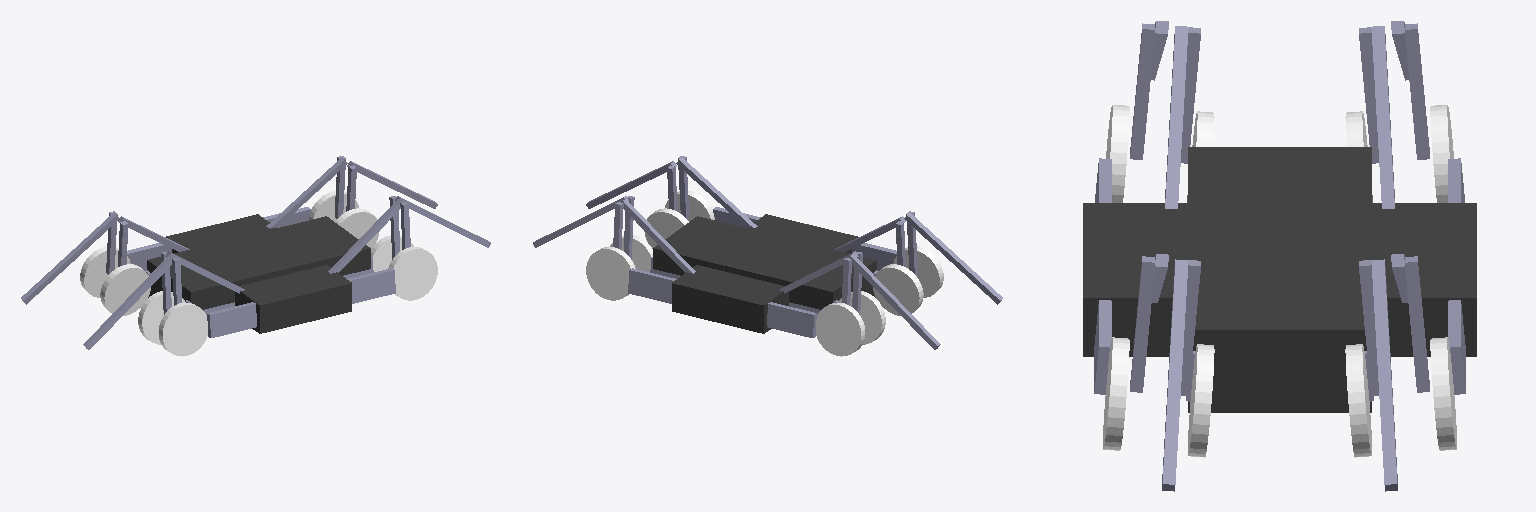
--- Render facts (derived) ---
3 views of the same robot in one strip: view 1: azimuth 30°, elevation 25°; view 2: azimuth 150°, elevation 25°; view 3: azimuth 270°, elevation 25° (orthographic).
Model quadruped with 27 links and 26 joints (8 continuous, 18 fixed), rooted at base_chassis_link, posed all joints at 0.
Links seen in each view (by area): view 1: base_chassis_link, chassis_right, motor_back_rightR_link, motor_front_rightR_link, motor_back_leftL_link, lower_leg_back_leftR_link, lower_leg_back_rightR_link, motor_back_leftR_link, chassis_left, motor_back_rightL_link, lower_leg_front_leftR_link, motor_front_leftL_link (+5 smaller); view 2: base_chassis_link, chassis_left, motor_back_leftR_link, motor_front_leftR_link, motor_back_rightL_link, lower_leg_back_rightR_link, lower_leg_back_leftR_link, motor_back_rightR_link, chassis_right, motor_back_leftL_link, lower_leg_front_rightR_link, motor_front_rightL_link (+5 smaller); view 3: base_chassis_link, lower_leg_front_rightL_link, lower_leg_front_leftL_link, lower_leg_back_rightL_link, lower_leg_back_leftL_link, motor_front_rightR_link, motor_front_leftR_link, motor_front_rightL_link, motor_front_leftL_link, chassis_right, chassis_left, upper_leg_back_rightR_link (+13 smaller).
Link boxes in pixels (bbox=[...]): base_chassis_link: bbox=[147, 214, 370, 333]; chassis_right: bbox=[185, 257, 395, 337]; motor_back_rightR_link: bbox=[159, 302, 207, 356]; motor_front_rightR_link: bbox=[388, 247, 437, 300]; motor_back_leftL_link: bbox=[100, 264, 150, 315]; lower_leg_back_leftR_link: bbox=[21, 212, 119, 304]; lower_leg_back_rightR_link: bbox=[83, 254, 174, 349]; motor_back_leftR_link: bbox=[80, 246, 130, 297]; chassis_left: bbox=[127, 207, 310, 294]; motor_back_rightL_link: bbox=[138, 291, 184, 344]; lower_leg_front_leftR_link: bbox=[266, 157, 347, 228]; motor_front_leftL_link: bbox=[335, 208, 379, 248]; base_chassis_link: bbox=[653, 214, 876, 333]; chassis_left: bbox=[628, 257, 838, 337]; motor_back_leftR_link: bbox=[816, 302, 864, 356]; motor_front_leftR_link: bbox=[586, 247, 635, 300]; motor_back_rightL_link: bbox=[873, 264, 923, 315]; lower_leg_back_rightR_link: bbox=[904, 212, 1002, 304]; lower_leg_back_leftR_link: bbox=[849, 254, 940, 349]; motor_back_rightR_link: bbox=[893, 246, 943, 297]; chassis_right: bbox=[713, 207, 896, 294]; motor_back_leftL_link: bbox=[839, 291, 885, 344]; lower_leg_front_rightR_link: bbox=[676, 157, 757, 228]; motor_front_rightL_link: bbox=[644, 208, 688, 248]; base_chassis_link: bbox=[1083, 147, 1476, 412]; lower_leg_front_rightL_link: bbox=[1162, 259, 1188, 491]; lower_leg_front_leftL_link: bbox=[1371, 259, 1397, 491]; lower_leg_back_rightL_link: bbox=[1165, 26, 1188, 208]; lower_leg_back_leftL_link: bbox=[1371, 26, 1394, 208]; motor_front_rightR_link: bbox=[1103, 337, 1129, 450]; motor_front_leftR_link: bbox=[1430, 337, 1456, 450]; motor_front_rightL_link: bbox=[1188, 344, 1214, 457]; motor_front_leftL_link: bbox=[1345, 344, 1371, 457]; chassis_right: bbox=[1094, 158, 1194, 401]; chassis_left: bbox=[1365, 158, 1465, 401]; upper_leg_back_rightR_link: bbox=[1130, 23, 1154, 159].
Size in the robot's own frame: 0.7535 by 0.3 by 0.1669 metres.
8 mesh visuals loaded from 1 distinct referenced files (1 OBJ).

robot.urdf — quadruped:
<?xml version="0.0" ?>
<!-- ======================================================================= -->
<!--LICENSE:                                                                 -->
<!--Copyright (c) 2017, Erwin Coumans                                        -->
<!--Google Inc.                                                              -->
<!--All rights reserved.                                                     -->
<!--                                                                         -->
<!--Redistribution and use in source and binary forms, with or without       -->
<!--modification, are permitted provided that the following conditions are   -->
<!--met:                                                                     -->
<!--                                                                         -->
<!--1. Redistributions or derived work must retain this copyright notice,    -->
<!--   this list of conditions and the following disclaimer.                 -->
<!--                                                                         -->
<!--2. Redistributions in binary form must reproduce the above copyright     -->
<!--   notice, this list of conditions and the following disclaimer in the   -->
<!--   documentation and/or other materials provided with the distribution.  -->
<!--                                                                         -->
<!--THIS SOFTWARE IS PROVIDED BY THE COPYRIGHT HOLDERS AND CONTRIBUTORS "AS  -->
<!--IS" AND ANY EXPRESS OR IMPLIED WARRANTIES, INCLUDING, BUT NOT LIMITED TO,-->
<!--THE IMPLIED WARRANTIES OF MERCHANTABILITY AND FITNESS FOR A PARTICULAR   -->
<!--PURPOSE ARE DISCLAIMED. IN NO EVENT SHALL THE COPYRIGHT HOLDER OR        -->
<!--CONTRIBUTORS BE LIABLE FOR ANY DIRECT, INDIRECT, INCIDENTAL, SPECIAL,    -->
<!--EXEMPLARY, OR CONSEQUENTIAL DAMAGES (INCLUDING, BUT NOT LIMITED TO,      -->
<!--PROCUREMENT OF SUBSTITUTE GOODS OR SERVICES; LOSS OF USE, DATA, OR       -->
<!--PROFITS; OR BUSINESS INTERRUPTION) HOWEVER CAUSED AND ON ANY THEORY OF   -->
<!--LIABILITY, WHETHER IN CONTRACT, STRICT LIABILITY, OR TORT (INCLUDING     -->
<!--NEGLIGENCE OR OTHERWISE) ARISING IN ANY WAY OUT OF THE USE OF THIS       -->
<!--SOFTWARE, EVEN IF ADVISED OF THE POSSIBILITY OF SUCH DAMAGE.             -->

<robot name="quadruped">
  <link name="base_chassis_link">
    <visual>
      <geometry>
        <box size=".33 0.14 .07"/>
      </geometry>
      <material name="black">
        <color rgba="0.3 0.3 0.3 1"/>
      </material>
    </visual>
    <visual>
			<origin rpy="0 0 0" xyz="0 0.10 0"/>
      <geometry>
        <box size=".17 0.10 .05"/>
      </geometry>
      <material name="black">
        <color rgba="0.3 0.3 0.3 1"/>
      </material>
    </visual>
		<visual>
			<origin rpy="0 0 0" xyz="0 -0.10 0"/>
      <geometry>
        <box size=".17 0.10 .05"/>
      </geometry>
      <material name="black">
        <color rgba="0.3 0.3 0.3 1"/>
      </material>
    </visual>

    <collision>
      <geometry>
       <box size=".34 0.14 .07"/>
      </geometry>
    </collision>
    <collision>
			<origin rpy="0 0 0" xyz="0 0.10 0"/>
      <geometry>
       <box size=".17 0.10 .05"/>
      </geometry>
    </collision>
    <collision>
			<origin rpy="0 0 0" xyz="0 -0.10 0"/>
      <geometry>
       <box size=".17 0.10 .05"/>
      </geometry>
    </collision>

    <inertial>
      <mass value="3"/>
      <inertia ixx="1.0" ixy="0.0" ixz="0.0" iyy="1.0" iyz="0.0" izz="1.0"/>
    </inertial>
  </link>

  <link name="chassis_right">
    <visual>
			<origin rpy="0 0 0" xyz="0 0.035 0"/>
      <geometry>
       <box size=".34 0.01 .04"/>
      </geometry>
			<material name="grey">
        <color rgba="0.65 0.65 0.75 1"/>
      </material>    </visual>
    <visual>
			<origin rpy="0 0 0" xyz="0 -0.035 0"/>
      <geometry>
       <box size=".34 0.01 .04"/>
      </geometry>
			<material name="grey">
        <color rgba="0.65 0.65 0.75 1"/>
      </material>    </visual>
    <collision>
			<origin rpy="0 0 0" xyz="0 0.035 0"/>
      <geometry>
       <box size=".34 0.01 .04"/>
      </geometry>
    </collision>
    <collision>
			<origin rpy="0 0 0" xyz="0 -0.035 0"/>
      <geometry>
       <box size=".34 0.01 .04"/>
      </geometry>
    </collision>
    <inertial>
      <mass value=".1"/>
      <inertia ixx="1.0" ixy="0.0" ixz="0.0" iyy="1.0" iyz="0.0" izz="1.0"/>
    </inertial>
  </link>

  <joint name="chassis_right_center" type="fixed">
    <axis xyz="0 0 1"/>
    <parent link="base_chassis_link"/>
    <child link="chassis_right"/>
    <origin rpy="-0.0872665 0 0" xyz="0.0 -0.10 0.0"/>
    <limit effort="100" velocity="100"/>
    <joint_properties damping="0.0" friction="0.0"/>
  </joint>

  <link name="chassis_left">
    <visual>
			<origin rpy="0 0 0" xyz="0 0.035 0"/>
      <geometry>
       <box size=".34 0.01 .04"/>
      </geometry>
			<material name="grey">
        <color rgba="0.65 0.65 0.75 1"/>
      </material>    </visual>
    <visual>
			<origin rpy="0 0 0" xyz="0 -0.035 0"/>
      <geometry>
       <box size=".34 0.01 .04"/>
      </geometry>
			<material name="grey">
        <color rgba="0.65 0.65 0.75 1"/>
      </material>    </visual>
    <collision>
			<origin rpy="0 0 0" xyz="0 0.035 0"/>
      <geometry>
       <box size=".34 0.01 .04"/>
      </geometry>
    </collision>
    <collision>
			<origin rpy="0 0 0" xyz="0 -0.035 0"/>
      <geometry>
       <box size=".34 0.01 .04"/>
      </geometry>
    </collision>
    <inertial>
      <mass value=".1"/>
      <inertia ixx="1.0" ixy="0.0" ixz="0.0" iyy="1.0" iyz="0.0" izz="1.0"/>
    </inertial>
  </link>

  <joint name="chassis_left_center" type="fixed">
    <axis xyz="0 0 1"/>
    <parent link="base_chassis_link"/>
    <child link="chassis_left"/>
    <origin rpy="0.0872665 0 0" xyz="0.0 0.10 0.0"/>
    <limit effort="100" velocity="100"/>
    <joint_properties damping="0.0" friction="0.0"/>
  </joint>

  
  
  <link name="motor_front_rightR_link">
    <visual>
      <geometry>
        <mesh filename="tmotor3.obj" scale="1 1 1"/>
      </geometry>
      <material name="white">
        <color rgba="1 1 1 1"/>
      </material>
    </visual>
    <collision>
      <geometry>
        <cylinder length="0.026" radius="0.0434"/>
      </geometry>
    </collision>
    <inertial>
      <mass value="0.25"/>
      <inertia ixx="1.0" ixy="0.0" ixz="0.0" iyy="1.0" iyz="0.0" izz="1.0"/>
    </inertial>
  </link>
  <joint name="motor_front_rightR_joint" type="continuous">
    <axis xyz="0 0 1"/>
    <parent link="chassis_right"/>
    <child link="motor_front_rightR_link"/>
    <origin rpy="1.57075 0 0" xyz="0.21 -0.025 0"/>
    <limit effort="100" velocity="100"/>
    <joint_properties damping="0.0" friction="0.0"/>
  </joint>


	<link name="motor_front_rightL_link">
    <visual>
      <geometry>
        <mesh filename="tmotor3.obj" scale="1 1 1"/>
      </geometry>
      <material name="white">
        <color rgba="1 1 1 1"/>
      </material>
    </visual>
    <collision>
      <geometry>
        <cylinder length="0.026" radius="0.0434"/>
      </geometry>
    </collision>
    <inertial>
      <mass value="0.25"/>
      <inertia ixx="1.0" ixy="0.0" ixz="0.0" iyy="1.0" iyz="0.0" izz="1.0"/>
    </inertial>
  </link>
  <joint name="motor_front_rightL_joint" type="continuous">
    <axis xyz="0 0 1"/>
    <parent link="chassis_right"/>
    <child link="motor_front_rightL_link"/>
    <origin rpy="1.57075 0 3.141592" xyz="0.21 0.04 0"/>
    <limit effort="100" velocity="100"/>
    <joint_properties damping="0.0" friction="0.0"/>
  </joint>
  
  
  <link name="motor_front_leftR_link">
    <visual>
      <geometry>
        <mesh filename="tmotor3.obj" scale="1 1 1"/>
      </geometry>
      <material name="white">
        <color rgba="1 1 1 1"/>
      </material>
    </visual>
    <collision>
      <geometry>
        <cylinder length="0.026" radius="0.0434"/>
      </geometry>
    </collision>
    <inertial>
      <mass value="0.25"/>
      <inertia ixx="1.0" ixy="0.0" ixz="0.0" iyy="1.0" iyz="0.0" izz="1.0"/>
    </inertial>
  </link>
  <joint name="motor_front_leftR_joint" type="continuous">
    <axis xyz="0 0 1"/>
    <parent link="chassis_left"/>
    <child link="motor_front_leftR_link"/>
    <origin rpy="1.57075 0 3.141592" xyz="0.21 0.025 0"/>
    <limit effort="100" velocity="100"/>
    <joint_properties damping="0.0" friction="0.0"/>
  </joint>


	<link name="motor_front_leftL_link">
    <visual>
      <geometry>
        <mesh filename="tmotor3.obj" scale="1 1 1"/>
      </geometry>
      <material name="white">
        <color rgba="1 1 1 1"/>
      </material>
    </visual>
    <inertial>
      <mass value="0.25"/>
      <inertia ixx="1.0" ixy="0.0" ixz="0.0" iyy="1.0" iyz="0.0" izz="1.0"/>
    </inertial>
  </link>
  <joint name="motor_front_leftL_joint" type="continuous">
    <axis xyz="0 0 1"/>
    <parent link="chassis_left"/>
    <child link="motor_front_leftL_link"/>
    <origin rpy="1.57075 0 0" xyz="0.21 -0.04 0"/>
    <limit effort="100" velocity="100"/>
    <joint_properties damping="0.0" friction="0.0"/>
  </joint>
  
  
  <link name="motor_back_rightR_link">
    <visual>
      <geometry>
        <mesh filename="tmotor3.obj" scale="1 1 1"/>
      </geometry>
      <material name="white">
        <color rgba="1 1 1 1"/>
      </material>
    </visual>
    <collision>
      <geometry>
        <cylinder length="0.026" radius="0.0434"/>
      </geometry>
    </collision>
    <inertial>
      <mass value="0.25"/>
      <inertia ixx="1.0" ixy="0.0" ixz="0.0" iyy="1.0" iyz="0.0" izz="1.0"/>
    </inertial>
  </link>
  <joint name="motor_back_rightR_joint" type="continuous">
    <axis xyz="0 0 1"/>
    <parent link="chassis_right"/>
    <child link="motor_back_rightR_link"/>
    <origin rpy="1.57075 0 0" xyz="-0.21 -0.025 0"/>
    <limit effort="100" velocity="100"/>
    <joint_properties damping="0.0" friction="0.0"/>
  </joint>


	<link name="motor_back_rightL_link">
    <visual>
      <geometry>
        <mesh filename="tmotor3.obj" scale="1 1 1"/>
      </geometry>
      <material name="white">
        <color rgba="1 1 1 1"/>
      </material>
    </visual>
    <collision>
      <geometry>
        <cylinder length="0.026" radius="0.0434"/>
      </geometry>
    </collision>
    <inertial>
      <mass value="0.25"/>
      <inertia ixx="1.0" ixy="0.0" ixz="0.0" iyy="1.0" iyz="0.0" izz="1.0"/>
    </inertial>
  </link>
  <joint name="motor_back_rightL_joint" type="continuous">
    <axis xyz="0 0 1"/>
    <parent link="chassis_right"/>
    <child link="motor_back_rightL_link"/>
    <origin rpy="1.57075 0 3.141592" xyz="-0.21 0.04 0"/>
    <limit effort="100" velocity="100"/>
    <joint_properties damping="0.0" friction="0.0"/>
  </joint>
  
  
  <link name="motor_back_leftR_link">
    <visual>
      <geometry>
        <mesh filename="tmotor3.obj" scale="1 1 1"/>
      </geometry>
      <material name="white">
        <color rgba="1 1 1 1"/>
      </material>
    </visual>
    <collision>
      <geometry>
        <cylinder length="0.026" radius="0.0434"/>
      </geometry>
    </collision>
    <inertial>
      <mass value="0.25"/>
      <inertia ixx="1.0" ixy="0.0" ixz="0.0" iyy="1.0" iyz="0.0" izz="1.0"/>
    </inertial>
  </link>
  <joint name="motor_back_leftR_joint" type="continuous">
    <axis xyz="0 0 1"/>
    <parent link="chassis_left"/>
    <child link="motor_back_leftR_link"/>
    <origin rpy="1.57075 0 3.141592" xyz="-0.21 0.025 0"/>
    <limit effort="100" velocity="100"/>
    <joint_properties damping="0.0" friction="0.0"/>
  </joint>


	<link name="motor_back_leftL_link">
    <visual>
      <geometry>
        <mesh filename="tmotor3.obj" scale="1 1 1"/>
      </geometry>
      <material name="white">
        <color rgba="1 1 1 1"/>
      </material>
    </visual>
    <collision>
      <geometry>
        <cylinder length="0.026" radius="0.0434"/>
      </geometry>
    </collision>
    <inertial>
      <mass value="0.25"/>
      <inertia ixx="1.0" ixy="0.0" ixz="0.0" iyy="1.0" iyz="0.0" izz="1.0"/>
    </inertial>
  </link>
  <joint name="motor_back_leftL_joint" type="continuous">
    <axis xyz="0 0 1"/>
    <parent link="chassis_left"/>
    <child link="motor_back_leftL_link"/>
    <origin rpy="1.57075 0 0" xyz="-0.21 -0.04 0"/>
    <limit effort="100" velocity="100"/>
    <joint_properties damping="0.0" friction="0.0"/>
  </joint>

	<link name="upper_leg_front_rightR_link">
    <visual>
      <geometry>
        <box size=".01 0.01 .11"/>
      </geometry>
      <material name="grey">
        <color rgba="0.65 0.65 0.75 1"/>
      </material>
    </visual>
    <collision>
      <geometry>
        <box size=".01 0.01 .11"/>
      </geometry>
    </collision>
    <inertial>
      <mass value="0.05"/>
      <inertia ixx="1.0" ixy="0.0" ixz="0.0" iyy="1.0" iyz="0.0" izz="1.0"/>
    </inertial>
  </link>
  <joint name="hip_front_rightR_link" type="fixed">
    <axis xyz="0 0 1"/>
    <parent link="motor_front_rightR_link"/>
    <child link="upper_leg_front_rightR_link"/>
    <origin rpy="-1.57075 0 0" xyz="0.0 0.06 -0.015"/>
    <limit effort="100" velocity="100"/>
    <joint_properties damping="0.0" friction="0.0"/>
  </joint>

	<link name="lower_leg_front_rightR_link">
	<contact>
	  <stiffness value="10000"/>
    <damping value="10"/>
		<lateral_friction value="1"/>
  </contact>

    <visual>
    	<origin rpy="0.0 0 0" xyz="0 0 .1"/>
      <geometry>
        <box size=".01 0.01 .2"/>
      </geometry>
      <material name="grey">
        <color rgba="0.65 0.65 0.75 1"/>
      </material>
    </visual>
    <collision>
    	<origin rpy="0.0 0 0" xyz="0 0 .1"/>
      <geometry>
        <box size=".01 0.01 .2"/>
      </geometry>
    </collision>
    <inertial>
      <mass value="0.05"/>
      <inertia ixx="1.0" ixy="0.0" ixz="0.0" iyy="1.0" iyz="0.0" izz="1.0"/>
    </inertial>
  </link>
  <joint name="knee_front_rightR_link" type="fixed">
    <axis xyz="0 1 0"/>
    <parent link="upper_leg_front_rightR_link"/>
    <child link="lower_leg_front_rightR_link"/>
    <origin rpy="0 -2.1834 0" xyz="0.0 0.01 .055"/>
    <limit effort="100" velocity="100"/>
    <joint_properties damping="0.0" friction="0.0"/>
  </joint>

    
  <link name="upper_leg_front_rightL_link">
    <visual>
      <geometry>
        <box size=".01 0.01 .11"/>
      </geometry>
      <material name="grey">
        <color rgba="0.65 0.65 0.75 1"/>
      </material>
    </visual>
    <collision>
      <geometry>
        <box size=".01 0.01 .11"/>
      </geometry>
    </collision>
    <inertial>
      <mass value="0.05"/>
      <inertia ixx="1.0" ixy="0.0" ixz="0.0" iyy="1.0" iyz="0.0" izz="1.0"/>
    </inertial>
  </link>
  <joint name="motor_front_rightL_link" type="fixed">
    <axis xyz="0 0 1"/>
    <parent link="motor_front_rightL_link"/>
    <child link="upper_leg_front_rightL_link"/>
    <origin rpy="-1.57075 0 0" xyz="0.0 0.06 -0.015"/>
    <limit effort="100" velocity="100"/>
    <joint_properties damping="0.0" friction="0.0"/>
  </joint>

  

  
  <link name="lower_leg_front_rightL_link">
	<contact>
		<stiffness value="10000"/>
		<damping value="10"/>
		<lateral_friction value="1"/>
  </contact>

    <visual>
    	<origin rpy="0.0 0 0" xyz="0 0 .1"/>
      <geometry>
        <box size=".01 0.01 .198"/>
      </geometry>
      <material name="grey">
        <color rgba="0.65 0.65 0.75 1"/>
      </material>
    </visual>
    <collision>
    	<origin rpy="0.0 0 0" xyz="0 0 .1"/>
      <geometry>
        <box size=".01 0.01 .198"/>
      </geometry>
    </collision>
    <inertial>
      <mass value="0.05"/>
      <inertia ixx="1.0" ixy="0.0" ixz="0.0" iyy="1.0" iyz="0.0" izz="1.0"/>
    </inertial>
  </link>
  <joint name="knee_front_rightL_link" type="fixed">
    <axis xyz="0 1 0"/>
    <parent link="upper_leg_front_rightL_link"/>
    <child link="lower_leg_front_rightL_link"/>
    <origin rpy="0 -2.1834 0" xyz="0.0 0.01 .055"/>
    <limit effort="100" velocity="100"/>
    <joint_properties damping="0.0" friction="0.0"/>
  </joint>


	<link name="upper_leg_front_leftR_link">
    <visual>
      <geometry>
        <box size=".01 0.01 .11"/>
      </geometry>
      <material name="grey">
        <color rgba="0.65 0.65 0.75 1"/>
      </material>
    </visual>
    <collision>
      <geometry>
        <box size=".01 0.01 .11"/>
      </geometry>
    </collision>
    <inertial>
      <mass value="0.05"/>
      <inertia ixx="1.0" ixy="0.0" ixz="0.0" iyy="1.0" iyz="0.0" izz="1.0"/>
    </inertial>
  </link>
  <joint name="hip_front_leftR_link" type="fixed">
    <axis xyz="0 0 1"/>
    <parent link="motor_front_leftR_link"/>
    <child link="upper_leg_front_leftR_link"/>
    <origin rpy="-1.57075 0 0" xyz="0.0 0.06 -0.015"/>
    <limit effort="100" velocity="100"/>
    <joint_properties damping="0.0" friction="0.0"/>
  </joint>


	<link name="lower_leg_front_leftR_link">
	<contact>
		<stiffness value="10000"/>
		<damping value="10"/>
		<lateral_friction value="1"/>
  </contact>

    <visual>
    	<origin rpy="0.0 0.0 0" xyz="0 0 .1"/>
      <geometry>
        <box size=".01 0.01 .2"/>
      </geometry>
      <material name="grey">
        <color rgba="0.65 0.65 0.75 1"/>
      </material>
    </visual>
    <collision>
    	<origin rpy="0.0 0.0 0" xyz="0 0 .1"/>
      <geometry>
        <box size=".01 0.01 .2"/>
      </geometry>
    </collision>
    <inertial>
      <mass value="0.05"/>
      <inertia ixx="1.0" ixy="0.0" ixz="0.0" iyy="1.0" iyz="0.0" izz="1.0"/>
    </inertial>
  </link>
  <joint name="knee_front_leftR_link" type="fixed">
    <axis xyz="0 1 0"/>
    <parent link="upper_leg_front_leftR_link"/>
    <child link="lower_leg_front_leftR_link"/>
    <origin rpy="0 2.1834 0" xyz="0.0 0.01 .055"/>
    <limit effort="100" velocity="100"/>
    <joint_properties damping="0.0" friction="0.0"/>
  </joint>



   <link name="upper_leg_front_leftL_link">
    <visual>
      <geometry>
        <box size=".01 0.01 .11"/>
      </geometry>
      <material name="grey">
        <color rgba="0.65 0.65 0.75 1"/>
      </material>
    </visual>
    <collision>
      <geometry>
        <box size=".01 0.01 .11"/>
      </geometry>
    </collision>
    <inertial>
      <mass value="0.05"/>
      <inertia ixx="1.0" ixy="0.0" ixz="0.0" iyy="1.0" iyz="0.0" izz="1.0"/>
    </inertial>
  </link>
  <joint name="motor_front_leftL_link" type="fixed">
    <axis xyz="0 0 1"/>
    <parent link="motor_front_leftL_link"/>
    <child link="upper_leg_front_leftL_link"/>
    <origin rpy="-1.57075 0 0" xyz="0.0 0.06 -0.015"/>
    <limit effort="100" velocity="100"/>
    <joint_properties damping="0.0" friction="0.0"/>
  </joint>


  <link name="lower_leg_front_leftL_link">
	<contact>
		<stiffness value="10000"/>
		<damping value="10"/>
		<lateral_friction value="1"/>
  </contact>

    <visual>
    	<origin rpy="0.0 0.0 0" xyz="0 0 .1"/>
      <geometry>
        <box size=".01 0.01 .198"/>
      </geometry>
      <material name="grey">
        <color rgba="0.65 0.65 0.75 1"/>
      </material>
    </visual>
    <collision>
    	<origin rpy="0.0 0.0 0" xyz="0 0 .1"/>
      <geometry>
        <box size=".01 0.01 .198"/>
      </geometry>
    </collision>
    <inertial>
      <mass value="0.05"/>
      <inertia ixx="1.0" ixy="0.0" ixz="0.0" iyy="1.0" iyz="0.0" izz="1.0"/>
    </inertial>
  </link>
  <joint name="knee_front_leftL_link" type="fixed">
    <axis xyz="0 1 0"/>
    <parent link="upper_leg_front_leftL_link"/>
    <child link="lower_leg_front_leftL_link"/>
    <origin rpy="0 2.1834 0" xyz="0.0 0.01 .055"/>
    <limit effort="100" velocity="100"/>
    <joint_properties damping="0.0" friction="0.0"/>
  </joint>
  
	<link name="upper_leg_back_rightR_link">
    <visual>
      <geometry>
        <box size=".01 0.01 .11"/>
      </geometry>
      <material name="grey">
        <color rgba="0.65 0.65 0.75 1"/>
      </material>
    </visual>
    <collision>
      <geometry>
        <box size=".01 0.01 .11"/>
      </geometry>
    </collision>
    <inertial>
      <mass value="0.05"/>
      <inertia ixx="1.0" ixy="0.0" ixz="0.0" iyy="1.0" iyz="0.0" izz="1.0"/>
    </inertial>
  </link>
  <joint name="hip_rightR_link" type="fixed">
    <axis xyz="0 0 1"/>
    <parent link="motor_back_rightR_link"/>
    <child link="upper_leg_back_rightR_link"/>
    <origin rpy="-1.57075 0 0" xyz="0.0 0.06 -0.015"/>
    <limit effort="100" velocity="100"/>
    <joint_properties damping="0.0" friction="0.0"/>
  </joint>

	<link name="lower_leg_back_rightR_link">
	<contact>
		<stiffness value="10000"/>
		<damping value="10"/>
		<lateral_friction value="1"/>
  </contact>

    <visual>
    	<origin rpy="0.0 0 0" xyz="0 0 .1"/>
      <geometry>
        <box size=".01 0.01 .2032"/>
      </geometry>
      <material name="grey">
        <color rgba="0.65 0.65 0.75 1"/>
      </material>
    </visual>
    <collision>
    	<origin rpy="0.0 0 0" xyz="0 0 .1"/>
      <geometry>
        <box size=".01 0.01 .2032"/>
      </geometry>
    </collision>
    <inertial>
      <mass value="0.05"/>
      <inertia ixx="1.0" ixy="0.0" ixz="0.0" iyy="1.0" iyz="0.0" izz="1.0"/>
    </inertial>
  </link>
  <joint name="knee_back_rightR_link" type="fixed">
    <axis xyz="0 1 0"/>
    <parent link="upper_leg_back_rightR_link"/>
    <child link="lower_leg_back_rightR_link"/>
    <origin rpy="0 -2.1834 0" xyz="0.0 0.01 .055"/>
    <limit effort="100" velocity="100"/>
    <joint_properties damping="0.0" friction="0.0"/>
  </joint>

    
  <link name="upper_leg_back_rightL_link">
    <visual>
      <geometry>
        <box size=".01 0.01 .11"/>
      </geometry>
      <material name="grey">
        <color rgba="0.65 0.65 0.75 1"/>
      </material>
    </visual>
    <collision>
      <geometry>
        <box size=".01 0.01 .11"/>
      </geometry>
    </collision>
    <inertial>
      <mass value="0.05"/>
      <inertia ixx="1.0" ixy="0.0" ixz="0.0" iyy="1.0" iyz="0.0" izz="1.0"/>
    </inertial>
  </link>
  <joint name="motor_back_rightL_link" type="fixed">
    <axis xyz="0 0 1"/>
    <parent link="motor_back_rightL_link"/>
    <child link="upper_leg_back_rightL_link"/>
    <origin rpy="-1.57075 0 0" xyz="0.0 0.06 -0.015"/>
    <limit effort="100" velocity="100"/>
    <joint_properties damping="0.0" friction="0.0"/>
  </joint>

  

  
  <link name="lower_leg_back_rightL_link">
	<contact>
		<stiffness value="10000"/>
		<damping value="10"/>
		<lateral_friction value="1"/>
  </contact>

    <visual>
    	<origin rpy="0.0 0 0" xyz="0 0 .1"/>
      <geometry>
        <box size=".01 0.01 .2"/>
      </geometry>
      <material name="grey">
        <color rgba="0.65 0.65 0.75 1"/>
      </material>
    </visual>
    <collision>
    	<origin rpy="0.0 0 0" xyz="0 0 .1"/>
      <geometry>
        <box size=".01 0.01 .2"/>
      </geometry>
    </collision>
    <inertial>
      <mass value="0.05"/>
      <inertia ixx="1.0" ixy="0.0" ixz="0.0" iyy="1.0" iyz="0.0" izz="1.0"/>
    </inertial>
  </link>
  <joint name="knee_back_rightL_link" type="fixed">
    <axis xyz="0 1 0"/>
    <parent link="upper_leg_back_rightL_link"/>
    <child link="lower_leg_back_rightL_link"/>
    <origin rpy="0 -2.1834 0" xyz="0.0 0.01 .055"/>
    <limit effort="100" velocity="100"/>
    <joint_properties damping="0.0" friction="0.0"/>
  </joint>



	<link name="upper_leg_back_leftR_link">
    <visual>
      <geometry>
        <box size=".01 0.01 .11"/>
      </geometry>
      <material name="grey">
        <color rgba="0.65 0.65 0.75 1"/>
      </material>
    </visual>
    <collision>
      <geometry>
        <box size=".01 0.01 .11"/>
      </geometry>
    </collision>
    <inertial>
      <mass value="0.05"/>
      <inertia ixx="1.0" ixy="0.0" ixz="0.0" iyy="1.0" iyz="0.0" izz="1.0"/>
    </inertial>
  </link>
  <joint name="hip_leftR_link" type="fixed">
    <axis xyz="0 0 1"/>
    <parent link="motor_back_leftR_link"/>
    <child link="upper_leg_back_leftR_link"/>
    <origin rpy="-1.57075 0 0" xyz="0.0 0.06 -0.015"/>
    <limit effort="100" velocity="100"/>
    <joint_properties damping="0.0" friction="0.0"/>
  </joint>

<link name="lower_leg_back_leftR_link">
	<contact>
		<stiffness value="10000"/>
		<damping value="10"/>		
		<lateral_friction value="1"/>
  </contact>

    <visual>
    	<origin rpy="0.0 0 0" xyz="0 0 .1"/>
      <geometry>
        <box size=".01 0.01 .2032"/>
      </geometry>
      <material name="grey">
        <color rgba="0.65 0.65 0.75 1"/>
      </material>
    </visual>
    <collision>
    	<origin rpy="0.0 0 0" xyz="0 0 .1"/>
      <geometry>
        <box size=".01 0.01 .2032"/>
      </geometry>
    </collision>
    <inertial>
      <mass value="0.05"/>
      <inertia ixx="1.0" ixy="0.0" ixz="0.0" iyy="1.0" iyz="0.0" izz="1.0"/>
    </inertial>
  </link>
  <joint name="knee_back_leftR_link" type="fixed">
    <axis xyz="0 1 0"/>
    <parent link="upper_leg_back_leftR_link"/>
    <child link="lower_leg_back_leftR_link"/>
    <origin rpy="0 2.1834 0" xyz="0.0 0.01 .055"/>
    <limit effort="100" velocity="100"/>
    <joint_properties damping="0.0" friction="0.0"/>
  </joint>
  
   <link name="upper_leg_back_leftL_link">
    <visual>
      <geometry>
        <box size=".01 0.01 .11"/>
      </geometry>
      <material name="grey">
        <color rgba="0.65 0.65 0.75 1"/>
      </material>
    </visual>
    <collision>
      <geometry>
        <box size=".01 0.01 .11"/>
      </geometry>
    </collision>
    <inertial>
      <mass value="0.05"/>
      <inertia ixx="1.0" ixy="0.0" ixz="0.0" iyy="1.0" iyz="0.0" izz="1.0"/>
    </inertial>
  </link>
  <joint name="motor_back_leftL_link" type="fixed">
    <axis xyz="0 0 1"/>
    <parent link="motor_back_leftL_link"/>
    <child link="upper_leg_back_leftL_link"/>
    <origin rpy="-1.57075 0 0" xyz="0.0 0.06 -0.015"/>
    <limit effort="100" velocity="100"/>
    <joint_properties damping="0.0" friction="0.0"/>
  </joint>

 
  <link name="lower_leg_back_leftL_link">
	<contact>
		<stiffness value="10000"/>
		<damping value="10"/>		
		<lateral_friction value="1"/>
  </contact>

    <visual>
    	<origin rpy="0.0 0 0" xyz="0 0 .1"/>
      <geometry>
        <box size=".01 0.01 .2"/>
      </geometry>
      <material name="grey">
        <color rgba="0.65 0.65 0.75 1"/>
      </material>
    </visual>
    <collision>
    	<origin rpy="0.0 0 0" xyz="0 0 .1"/>
      <geometry>
        <box size=".01 0.01 .2"/>
      </geometry>
    </collision>
    <inertial>
      <mass value="0.05"/>
      <inertia ixx="1.0" ixy="0.0" ixz="0.0" iyy="1.0" iyz="0.0" izz="1.0"/>
    </inertial>
  </link>
  <joint name="knee_back_leftL_link" type="fixed">
    <axis xyz="0 1 0"/>
    <parent link="upper_leg_back_leftL_link"/>
    <child link="lower_leg_back_leftL_link"/>
    <origin rpy="0 2.1834 0" xyz="0.0 0.01 .055"/>
    <limit effort="100" velocity="100"/>
    <joint_properties damping="0.0" friction="0.0"/>
  </joint>
 
</robot>
